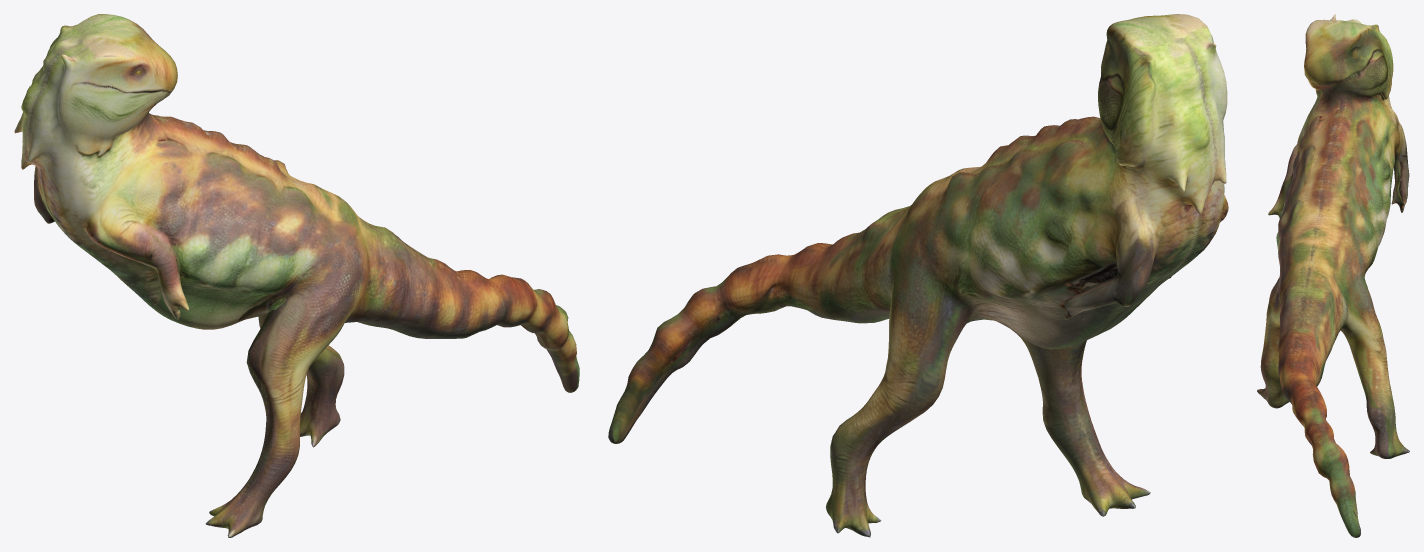
3 renders of one model, left to right at view 1: azimuth 30°, elevation 25°; view 2: azimuth 150°, elevation 25°; view 3: azimuth 270°, elevation 25°, orthographic. The views are drawn at different scales.
Parts seen in each view (by area): view 1: Mesh0; view 2: Mesh0; view 3: Mesh0.
Part boxes in pixels (box(x1,y1,x2,y2)): Mesh0: box(14, 14, 579, 537); Mesh0: box(608, 14, 1228, 537); Mesh0: box(1257, 14, 1409, 537).
Size of the model in its own units: 1.04 by 0.889 by 0.3507.
1 material, 1 textured.
